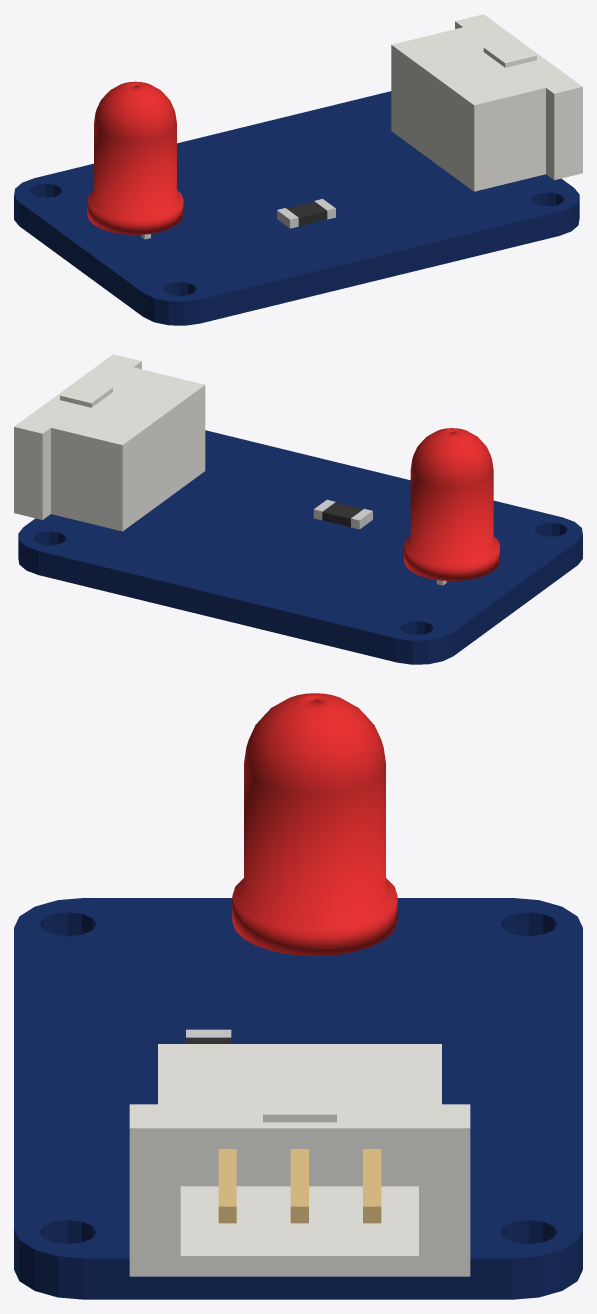
Rendered from led.glb.
3 views of the same model, one above another, from view 1: azimuth 30°, elevation 25°; view 2: azimuth 150°, elevation 25°; view 3: azimuth 270°, elevation 25° (orthographic). The views are drawn at different scales.
Visible parts, largest first — view 1: led_pcb, led_xh, led_lens, led, led_r_1_ends; view 2: led_pcb, led_xh, led_lens, led, led_r_1_ends; view 3: led_pcb, led_xh, led_lens, led.
Boxes of the visible parts, x1,y1,x2,y2 form: led_pcb: (14,91,579,325); led_xh: (391,14,582,191); led_lens: (87,81,183,234); led: (286,201,327,226); led_r_1_ends: (277,199,335,228); led_pcb: (18,430,582,664); led_xh: (14,354,205,531); led_lens: (404,428,499,580); led: (322,502,362,527); led_r_1_ends: (313,499,372,529); led_pcb: (14,898,582,1299); led_xh: (129,1044,470,1276); led_lens: (232,693,397,956); led: (186,1038,381,1223).
Size of the model in its own units: 0.0315 by 0.0112 by 0.02.
